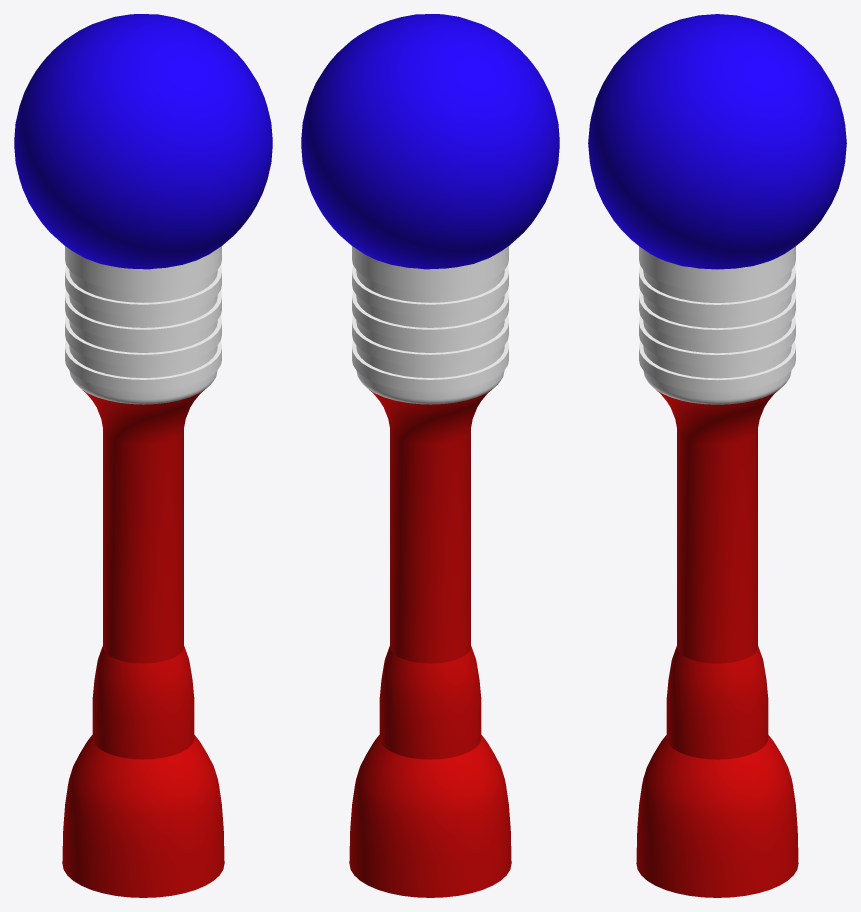
The model's file is Building_BallpointPen.FBX.
3 renders of one model, left to right at view 1: azimuth 30°, elevation 25°; view 2: azimuth 150°, elevation 25°; view 3: azimuth 270°, elevation 25°, orthographic.
Parts seen in each view (by area): view 1: BallPointPen_Building; view 2: BallPointPen_Building; view 3: BallPointPen_Building.
Boxes of the visible parts, x1,y1,x2,y2 form: BallPointPen_Building: (14, 14, 272, 897); BallPointPen_Building: (301, 14, 559, 897); BallPointPen_Building: (588, 14, 846, 897).
Size of the model in its own units: 22.99 by 82.11 by 22.99.
